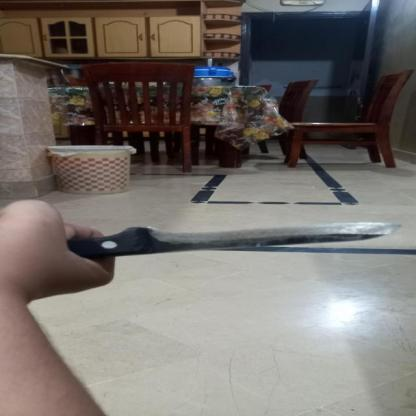Knife: (65, 220, 404, 257)
